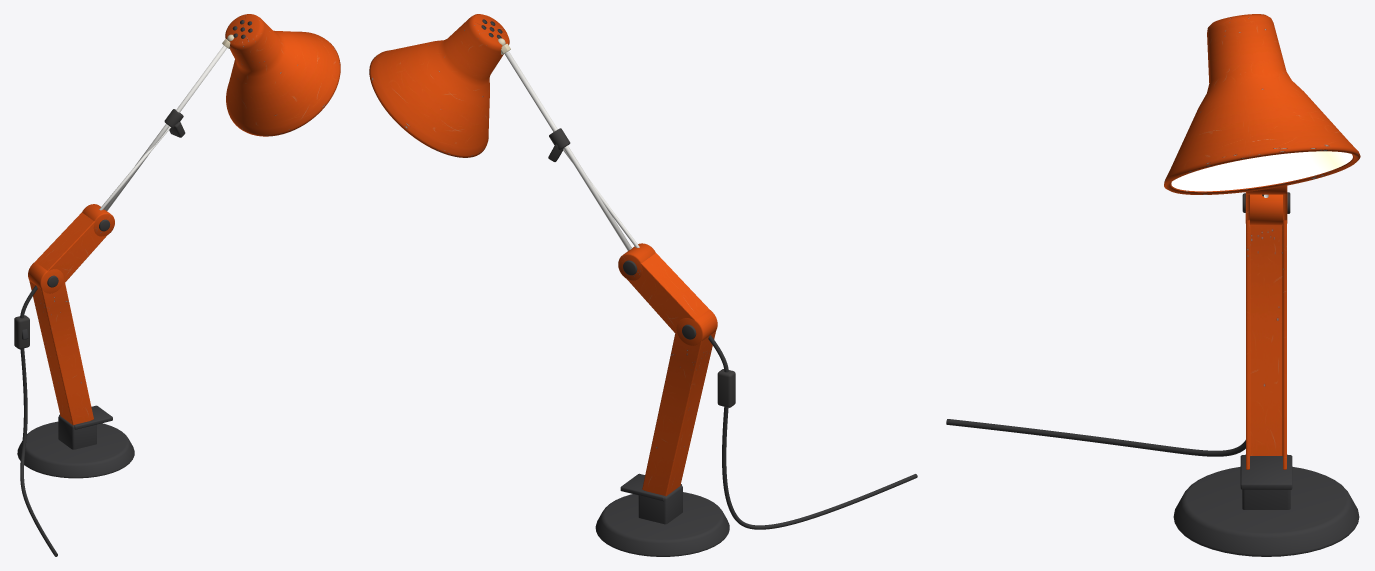
File: lamp.glb
The picture shows the model from 3 angles, left to right: view 1: azimuth 30°, elevation 25°; view 2: azimuth 150°, elevation 25°; view 3: azimuth 270°, elevation 25°; orthographic projection. The views are drawn at different scales.
Visible parts, largest first — view 1: shade_outer, lower_arm_stem, base_foot, lower_arm_elbow, cord_lower, base_bracket, rod_upper, knuckle_bend, knuckle_top, switch_body; view 2: shade_outer, lower_arm_stem, base_foot, lower_arm_elbow, cord_lower, rod_upper, base_bracket, knuckle_bend, knuckle_top, switch_body; view 3: shade_outer, base_foot, lower_arm_stem, shade_inner, cord_lower, base_flange, knuckle_bend, base_bracket.
Part boxes in pixels (<box>): shade_outer: <box>225,14,340,136</box>; lower_arm_stem: <box>29,281,93,425</box>; base_foot: <box>17,421,134,478</box>; lower_arm_elbow: <box>35,212,107,285</box>; cord_lower: <box>20,348,57,556</box>; base_bracket: <box>58,415,96,449</box>; rod_upper: <box>104,45,226,210</box>; knuckle_bend: <box>28,262,63,293</box>; knuckle_top: <box>82,204,114,236</box>; switch_body: <box>14,315,29,349</box>; shade_outer: <box>369,14,509,157</box>; lower_arm_stem: <box>642,331,715,496</box>; base_foot: <box>595,492,729,556</box>; lower_arm_elbow: <box>627,253,709,336</box>; cord_lower: <box>722,407,917,529</box>; rod_upper: <box>504,51,632,250</box>; base_bracket: <box>638,485,682,524</box>; knuckle_bend: <box>676,309,717,345</box>; knuckle_top: <box>618,243,655,280</box>; switch_body: <box>717,369,735,407</box>; shade_outer: <box>1164,14,1360,194</box>; base_foot: <box>1173,466,1359,556</box>; lower_arm_stem: <box>1246,220,1286,469</box>; shade_inner: <box>1171,151,1352,191</box>; cord_lower: <box>946,419,1245,456</box>; base_flange: <box>1240,455,1292,489</box>; knuckle_bend: <box>1245,193,1287,225</box>; base_bracket: <box>1242,454,1290,509</box>.
Size of the model in its own units: 4.48 by 4.61 by 2.72.
Materials: 8 (1 with a texture image).
